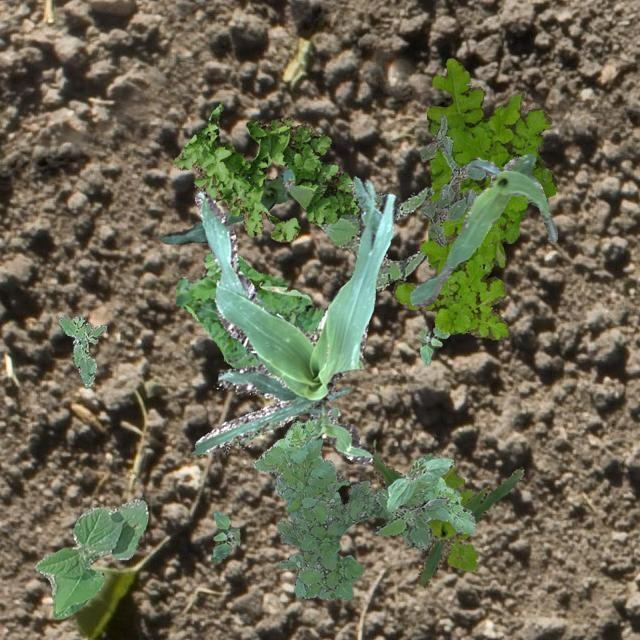crop: (192, 176, 396, 464), (409, 152, 556, 306), (368, 448, 522, 586), (34, 498, 148, 618), (160, 166, 294, 243), (386, 456, 452, 511)
weed: (426, 56, 556, 268), (172, 102, 358, 240), (252, 406, 364, 600), (298, 456, 474, 560), (174, 250, 324, 368), (283, 178, 432, 290), (392, 214, 508, 338), (418, 112, 488, 245), (372, 490, 448, 550), (440, 466, 478, 570), (58, 314, 106, 388), (210, 509, 238, 562), (416, 326, 448, 364), (422, 452, 432, 461)
